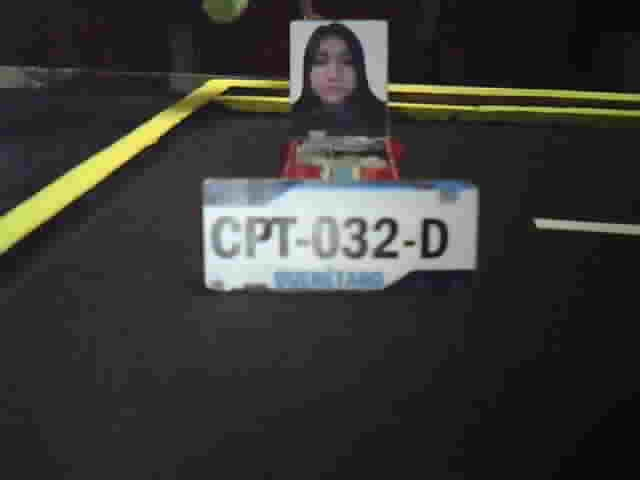PLACA: (197, 174, 481, 298)
ROSTRO: (289, 22, 384, 135)
